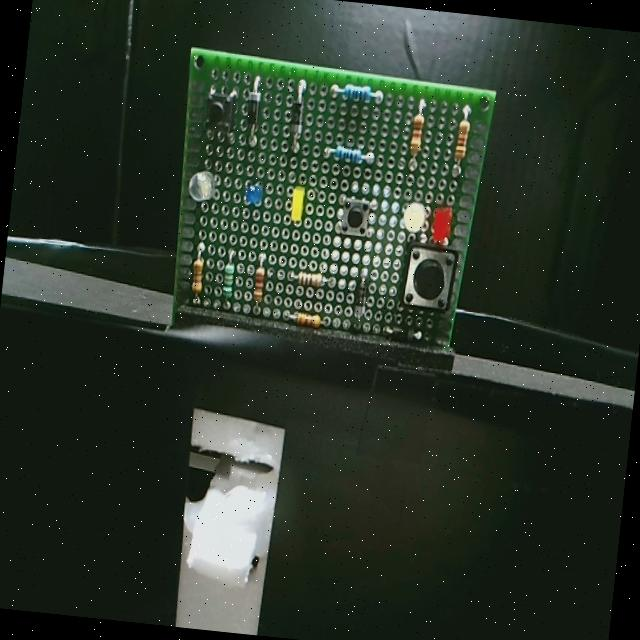diode: (279, 87, 312, 148), (344, 266, 376, 318), (374, 318, 419, 352), (240, 85, 266, 142)
led: (431, 202, 462, 254), (184, 168, 222, 210), (392, 196, 435, 233), (286, 182, 309, 225), (238, 181, 261, 212)
resistor: (185, 244, 217, 310), (328, 76, 384, 113), (450, 114, 474, 182), (212, 253, 240, 310), (406, 104, 429, 168), (246, 254, 272, 310), (322, 138, 370, 166), (286, 308, 326, 336), (286, 270, 332, 292)
switch: (398, 238, 461, 316), (201, 80, 241, 140), (338, 195, 378, 246)
